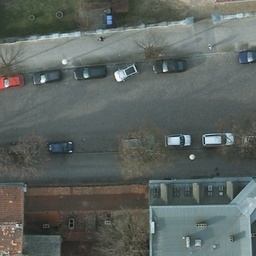car: (70, 62, 109, 80), (6, 138, 37, 159), (33, 65, 63, 85), (153, 58, 187, 75), (119, 138, 151, 155), (202, 131, 234, 147), (114, 62, 138, 83), (0, 71, 26, 90), (46, 139, 73, 156), (165, 133, 191, 150)
